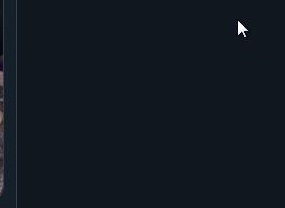cursor: (236, 19, 249, 39)
